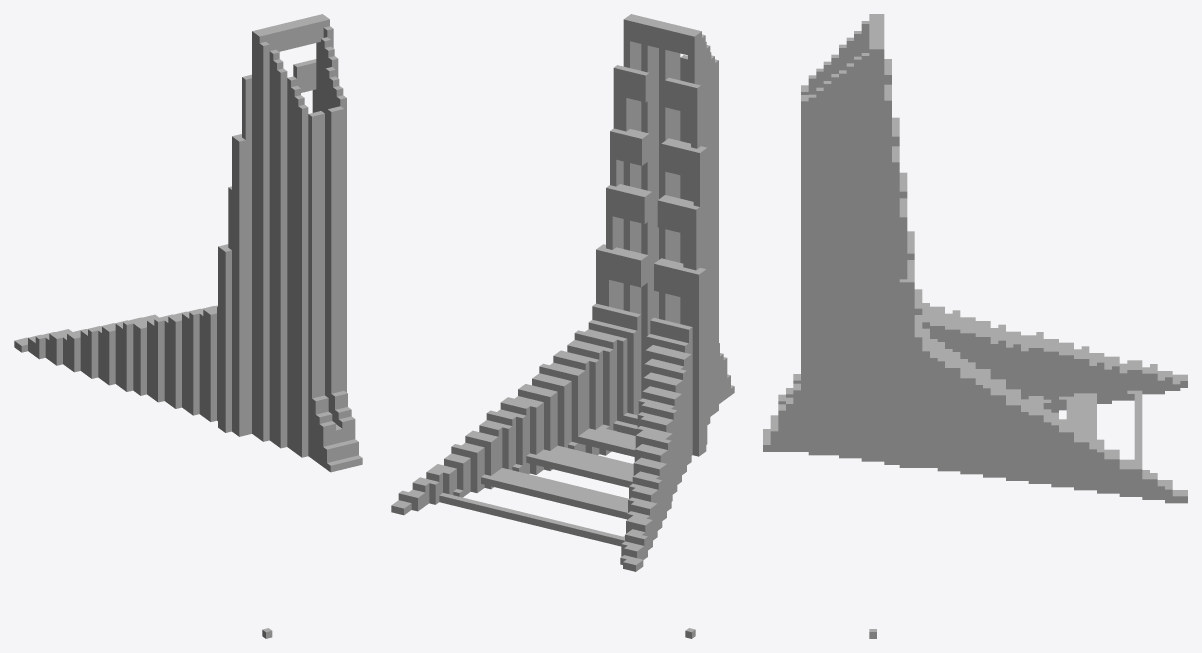
The model's file is Scale Test-0.obj.
The picture shows the model from 3 angles, left to right: view 1: azimuth 30°, elevation 25°; view 2: azimuth 150°, elevation 25°; view 3: azimuth 270°, elevation 25°; orthographic projection. The views are drawn at different scales.
Visible parts, largest first — view 1: Scale Test-0; view 2: Scale Test-0; view 3: Scale Test-0.
Part boxes in pixels (box(x1,y1,x2,y2)): Scale Test-0: box(14, 14, 362, 638); Scale Test-0: box(391, 14, 734, 638); Scale Test-0: box(763, 14, 1187, 638).
Size of the model in its own units: 38 by 90 by 56.
1 material, 1 textured.
